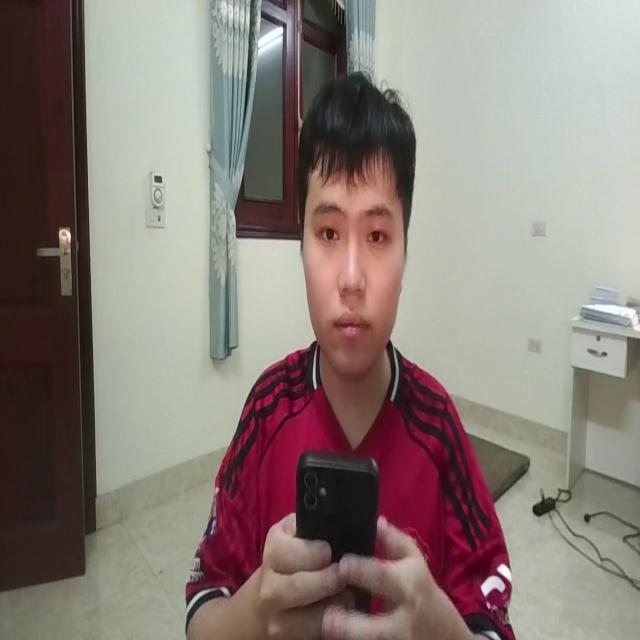phone: (292, 438, 383, 630)
student: (177, 72, 515, 640)
